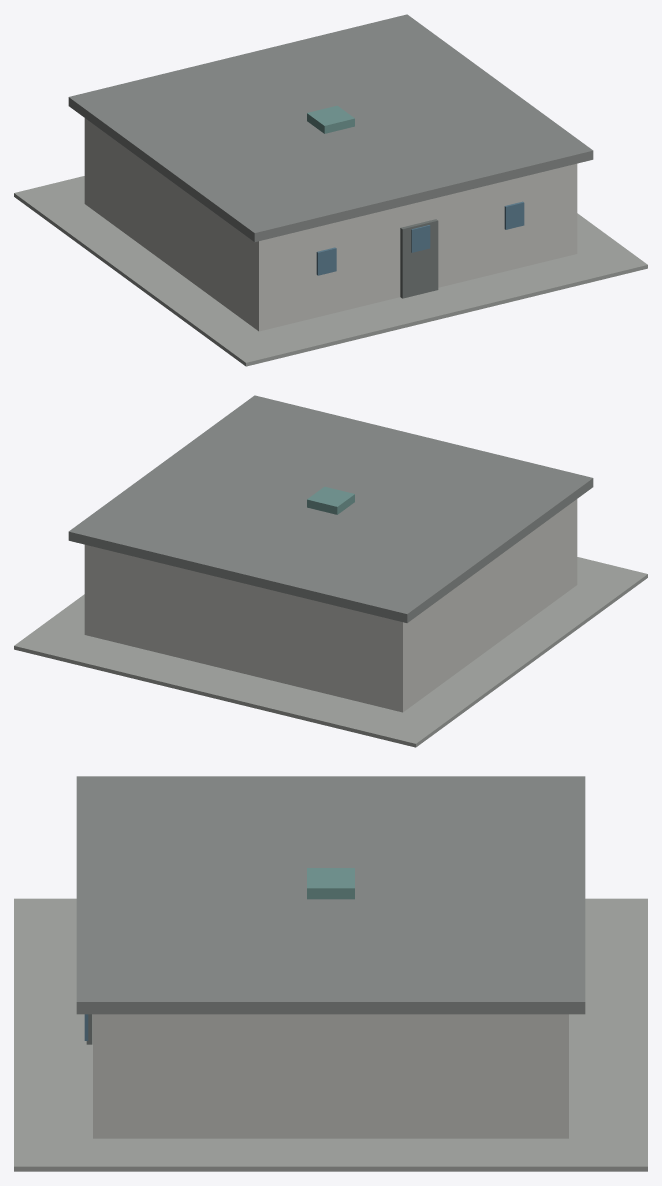
Rendered from complex_modern.glb.
The picture shows the model from 3 angles, top to bottom: view 1: azimuth 30°, elevation 25°; view 2: azimuth 150°, elevation 25°; view 3: azimuth 270°, elevation 25°; orthographic projection. The views are drawn at different scales.
Visible parts, largest first — view 1: complex_modern; view 2: complex_modern; view 3: complex_modern.
Boxes of the visible parts, <box> form: complex_modern: <box>14,14,647,366</box>; complex_modern: <box>14,395,647,747</box>; complex_modern: <box>14,776,647,1171</box>.
Bounding box in the file's own units: 7.88 × 2.19 × 7.88.
